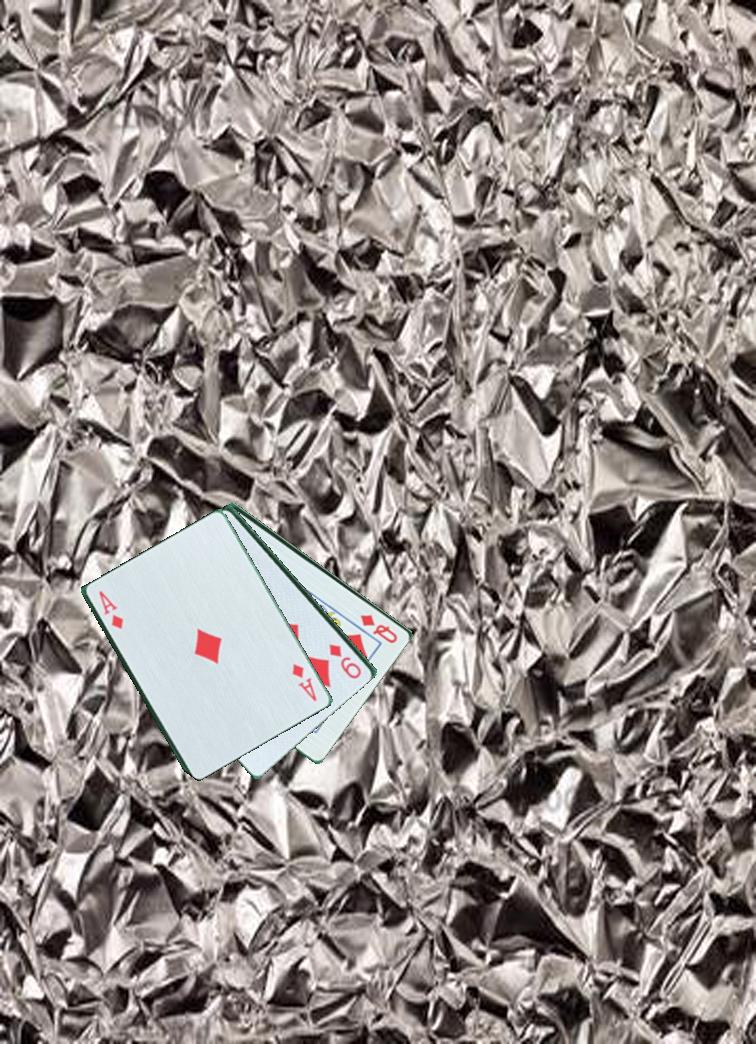9d: (326, 640, 365, 682)
ad: (94, 583, 127, 640), (289, 660, 320, 705)
qd: (357, 611, 401, 647)
